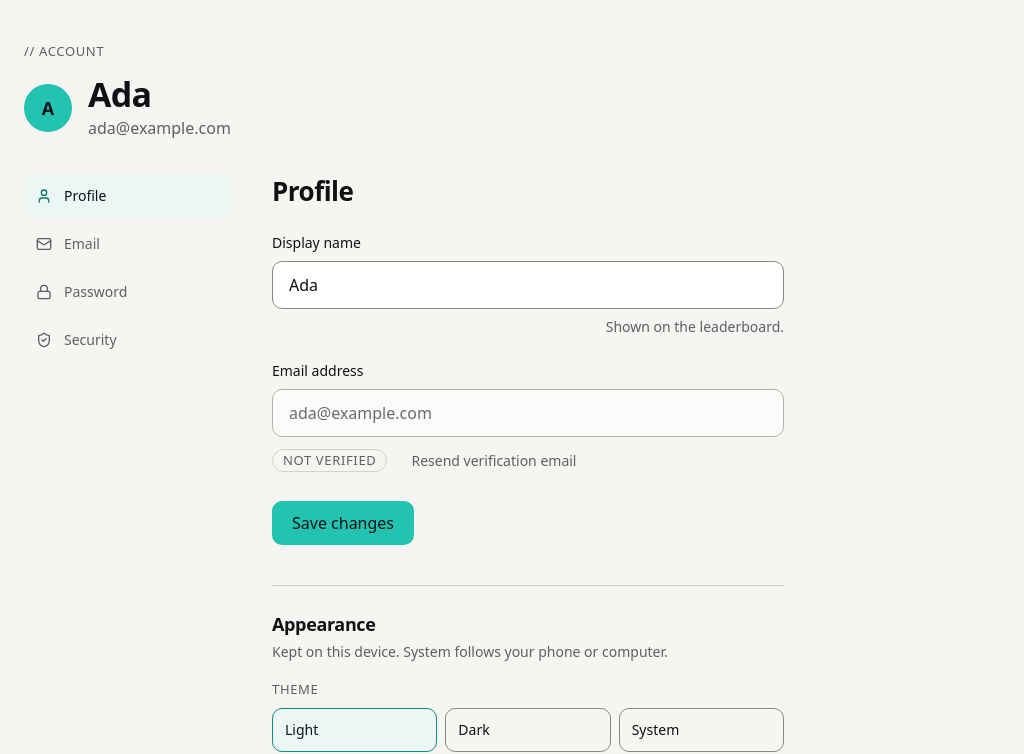
Profile page › lists second factors, removes one, and has no dead buttons
Step 1. Click the button "Security" → x=128, y=340, box [24,318,232,362]
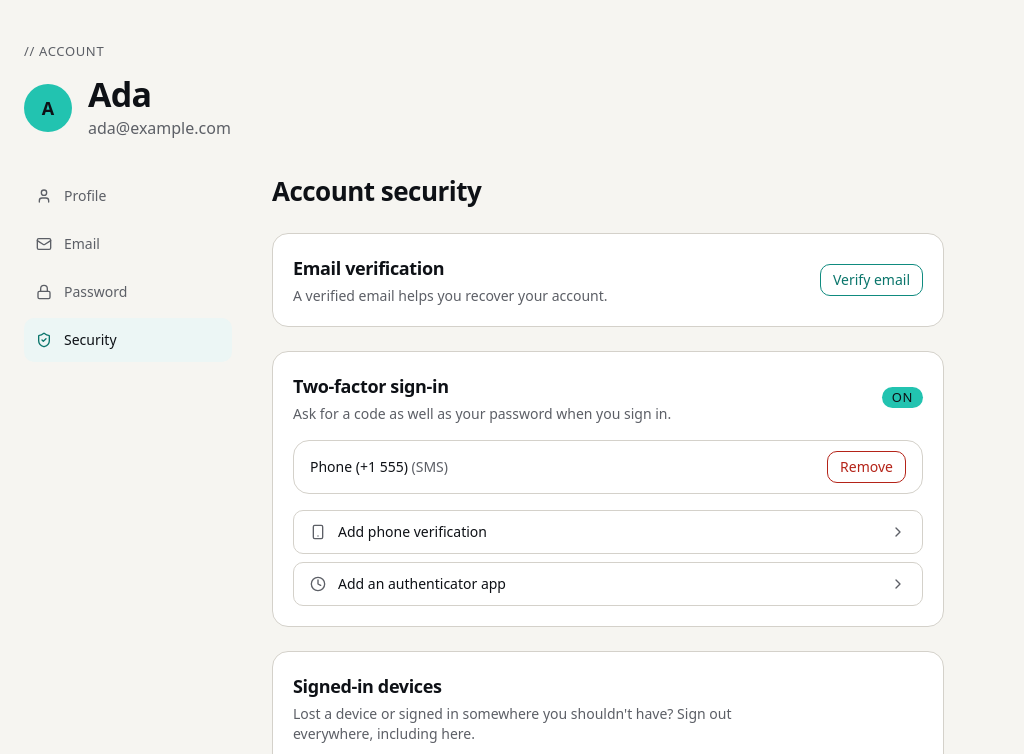
expect the text "Phone (+1 555)" is shown: met, box [310,457,408,476]
Step 2. Click the button "Remove" → x=867, y=467, box [827,451,906,483]
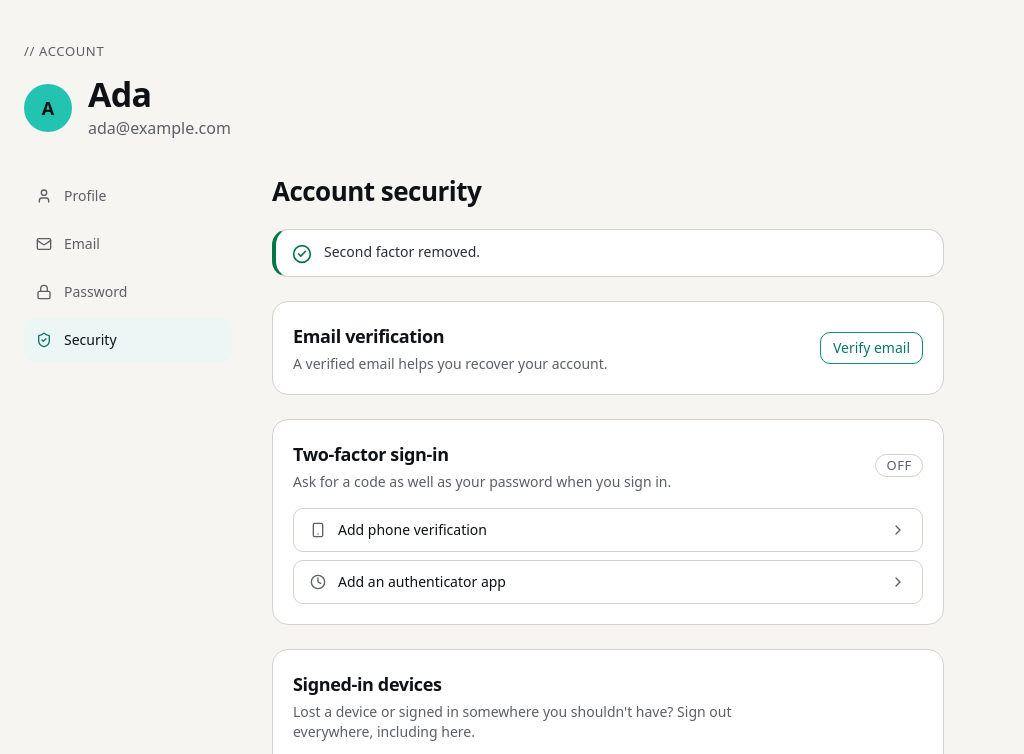
expect the text "Second factor removed." is shown: met, box [324,242,480,261]
expect the text "Phone (+1 555)" is gone: met
